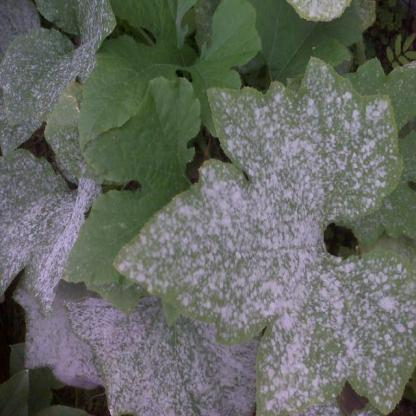squash powdery mildew leaf: (105, 52, 415, 404), (63, 281, 261, 415), (1, 7, 124, 148), (1, 139, 98, 300)
